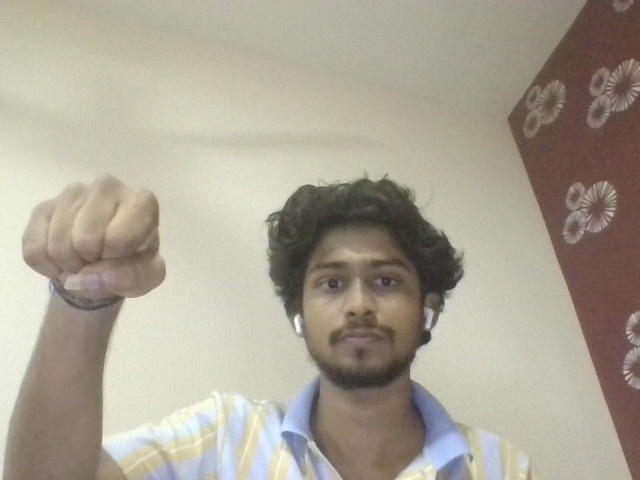yes: (18, 175, 174, 305)
